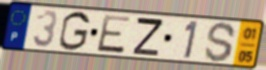1: (182, 20, 200, 61)
3: (33, 9, 58, 49)
E: (95, 13, 133, 55)
G: (57, 10, 92, 52)
S: (203, 21, 238, 64)
Z: (131, 16, 165, 58)
